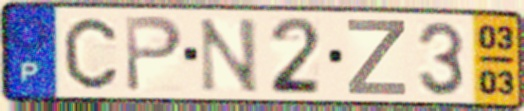2: (267, 15, 323, 98)
3: (414, 19, 468, 98)
C: (60, 15, 120, 92)
N: (197, 15, 262, 95)
P: (122, 14, 186, 95)
Z: (345, 17, 410, 98)
